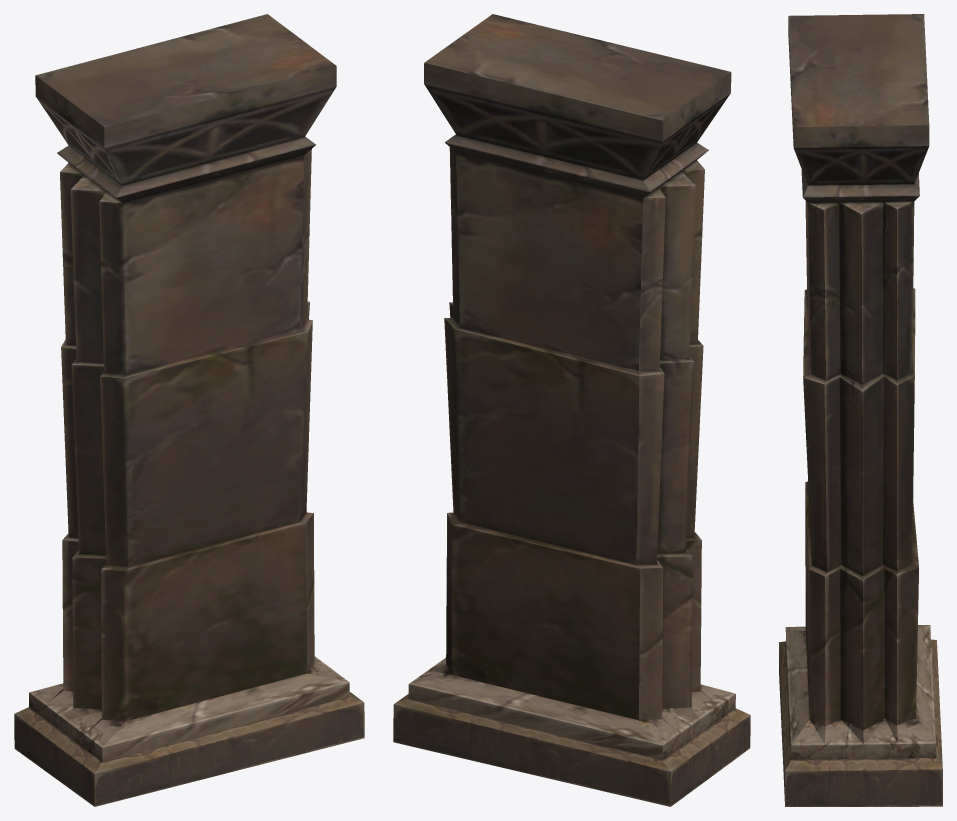
File: blsd_bszhuzi_01.FBX
The picture shows the model from 3 angles, left to right: view 1: azimuth 30°, elevation 25°; view 2: azimuth 150°, elevation 25°; view 3: azimuth 270°, elevation 25°; orthographic projection.
Visible parts, largest first — view 1: blsd_bszhuzi_01; view 2: blsd_bszhuzi_01; view 3: blsd_bszhuzi_01.
Part boxes in pixels (x1,y1,x2,y2): blsd_bszhuzi_01: (14,14,364,806); blsd_bszhuzi_01: (393,14,750,806); blsd_bszhuzi_01: (779,14,942,806).
Bounding box in the file's own units: 303 × 159 × 717.
